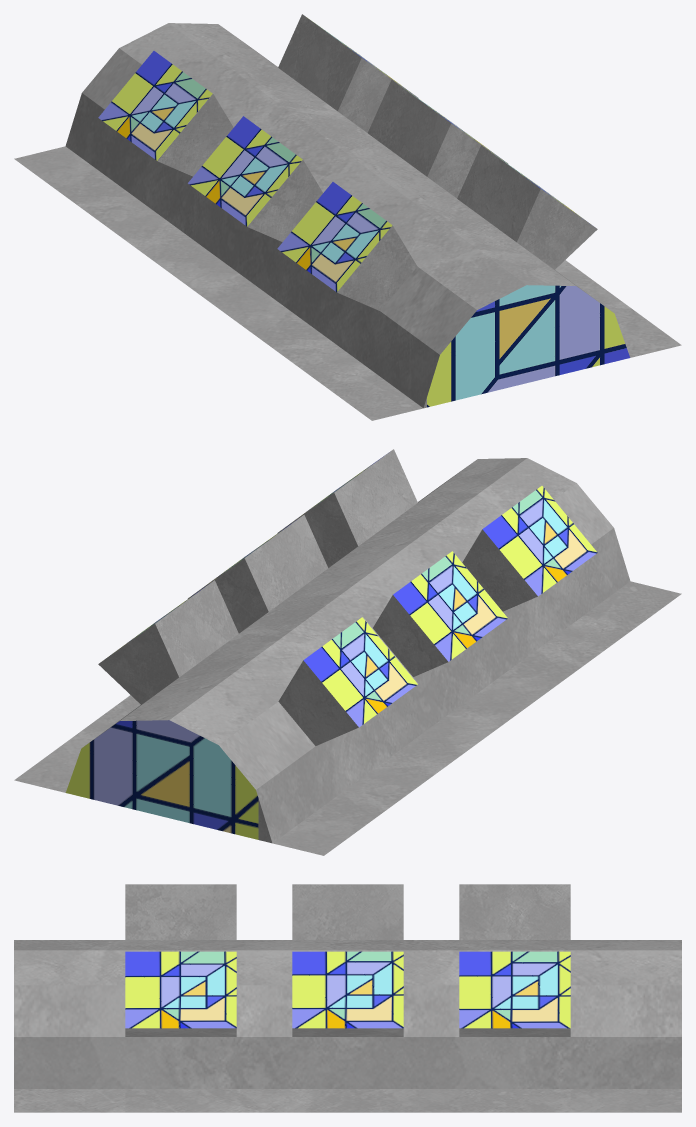
Rendered from FoyerCeilingTextured.fbx.
3 renders of one model, top to bottom at view 1: azimuth 30°, elevation 25°; view 2: azimuth 150°, elevation 25°; view 3: azimuth 270°, elevation 25°, orthographic. The views are drawn at different scales.
Visible parts, largest first — view 1: FoyerCeiling; view 2: FoyerCeiling; view 3: FoyerCeiling.
Part boxes in pixels (x1=…): FoyerCeiling: x1=14, y1=14, x2=681, y2=420; FoyerCeiling: x1=14, y1=449, x2=681, y2=855; FoyerCeiling: x1=14, y1=884, x2=681, y2=1112.
Bounding box in the file's own units: 6 × 2.46 × 12.
